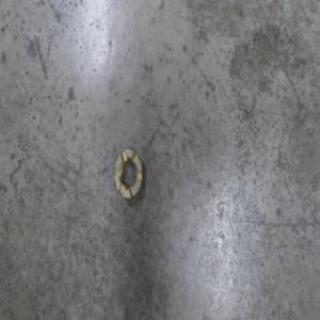Nuttrack_idkeyframe: (112, 144, 144, 201)
